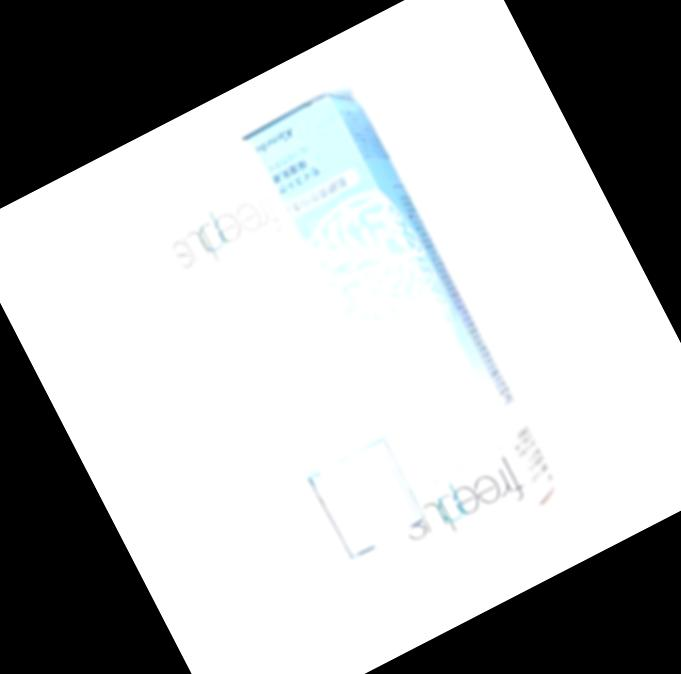cosmetic: (132, 127, 447, 573)
